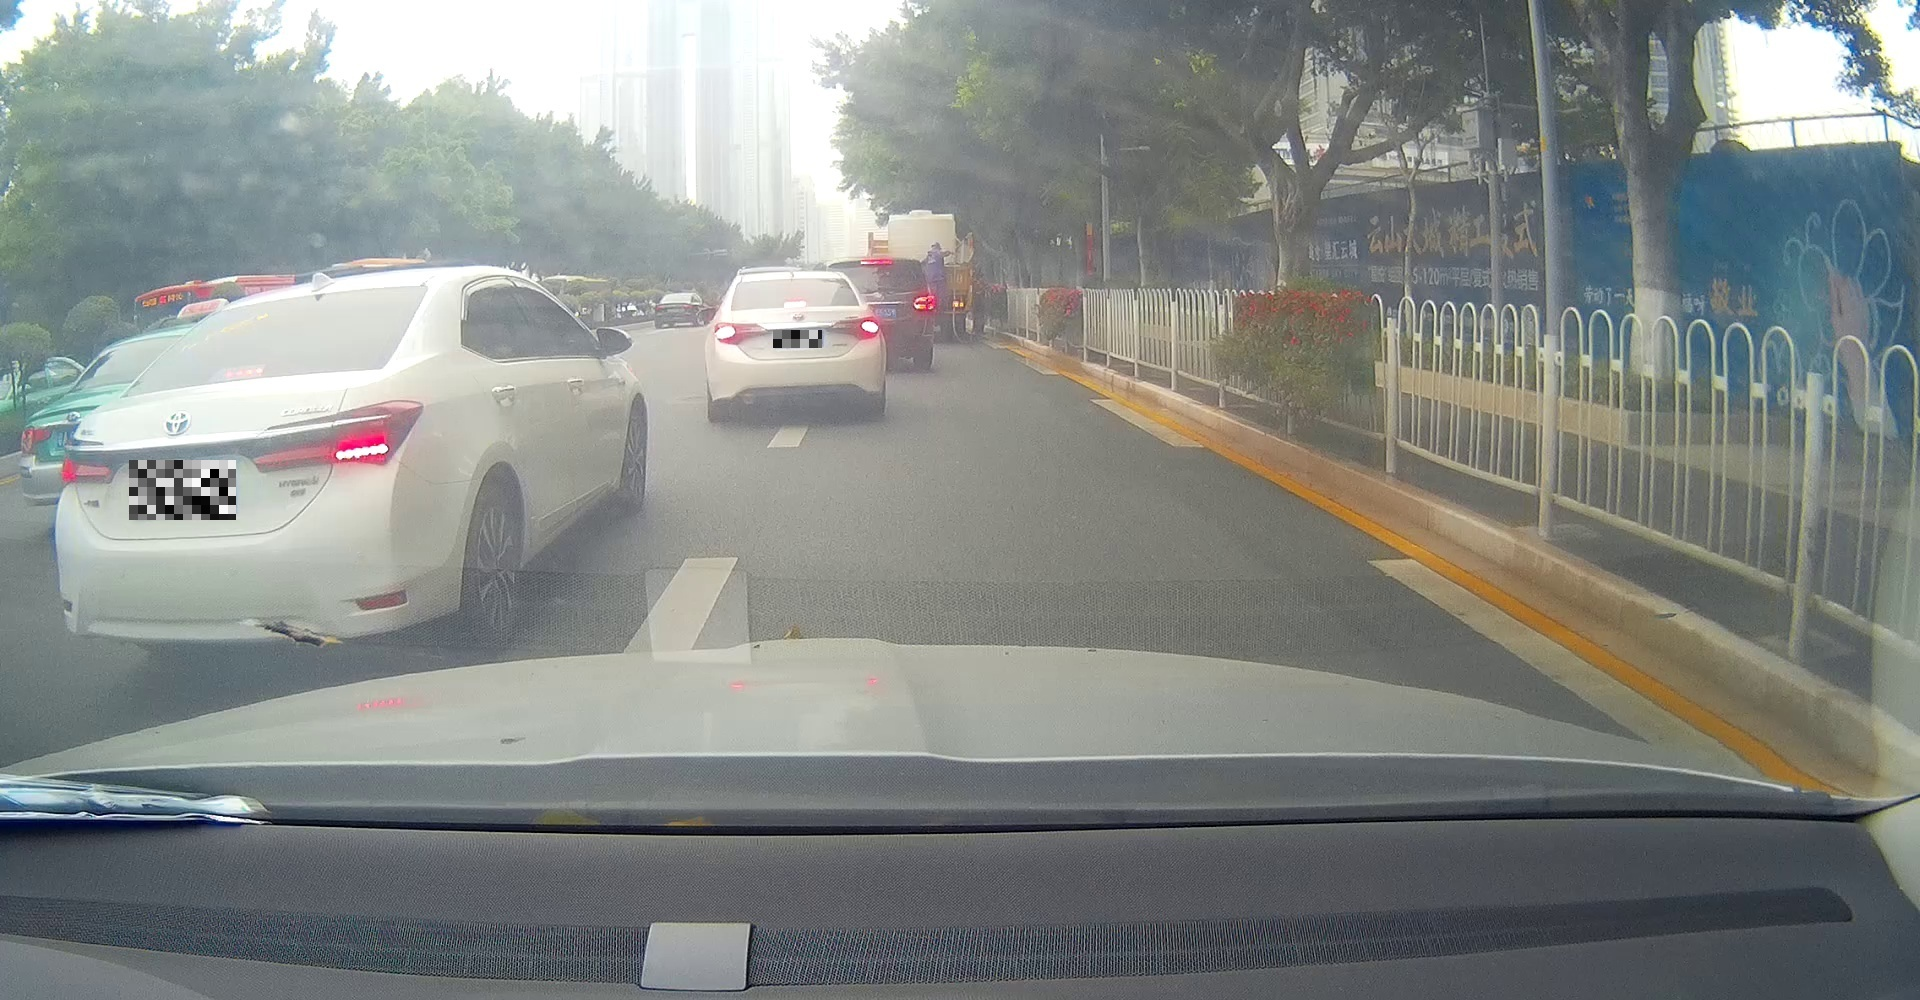L_light: (56, 451, 119, 485), (712, 321, 770, 345), (654, 305, 665, 312)
R_light: (237, 398, 425, 475), (824, 316, 881, 339), (681, 305, 693, 311)
T_light: (211, 364, 265, 382), (782, 299, 808, 308), (674, 293, 683, 296)
day-brake: (52, 279, 467, 665), (705, 270, 888, 423)
day-no: (654, 292, 695, 327)
plate_1: (130, 459, 236, 520)
plate_2: (773, 330, 822, 348)
